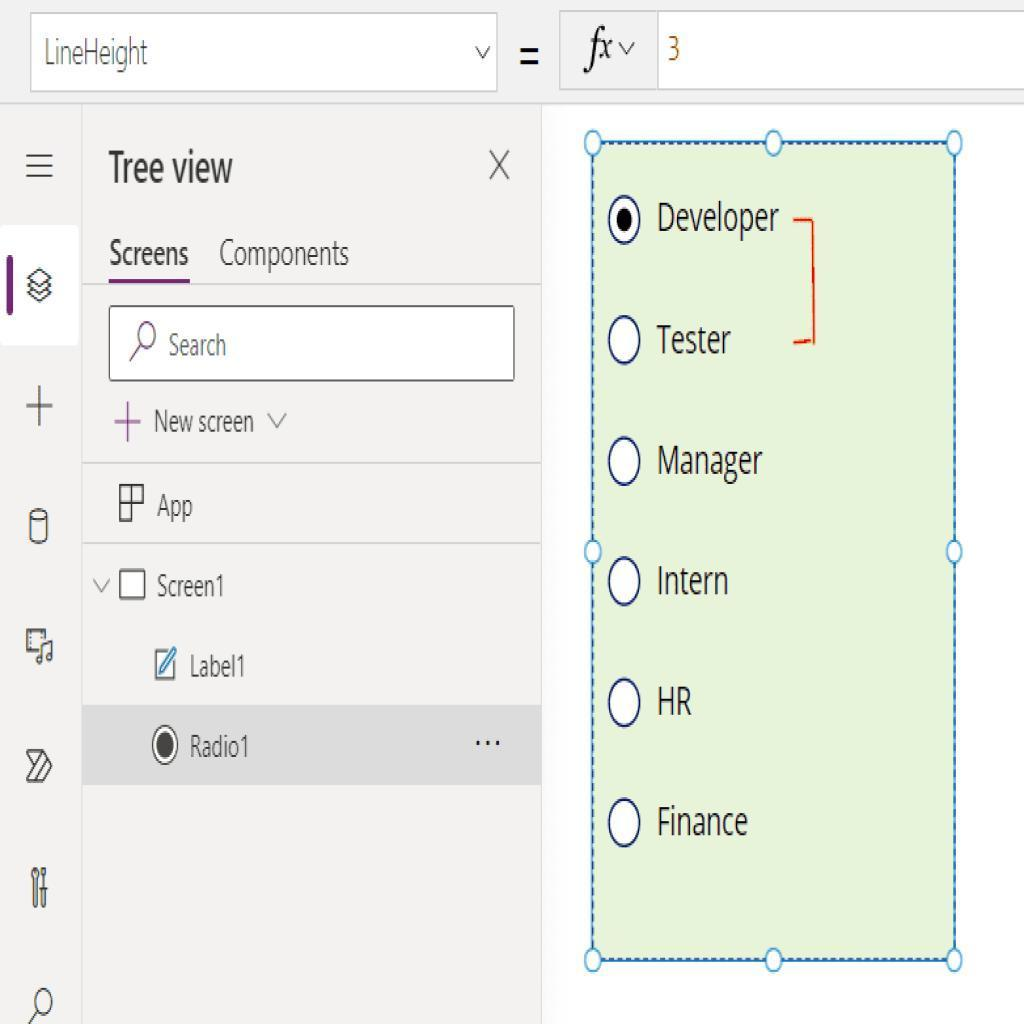checkbox: (121, 569, 147, 599)
dropdown: (30, 19, 500, 95)
icon: (15, 972, 74, 1024), (14, 741, 62, 792), (19, 261, 66, 311), (17, 144, 63, 188), (25, 863, 65, 913), (24, 382, 61, 436), (109, 394, 143, 452), (25, 502, 58, 561), (23, 623, 58, 674), (132, 321, 155, 372), (475, 730, 509, 763)
input: (106, 304, 516, 382)
label: (657, 434, 777, 486), (653, 795, 758, 849), (654, 201, 779, 239), (653, 556, 733, 611), (646, 324, 741, 367), (190, 724, 256, 768), (653, 673, 702, 723), (160, 572, 230, 607), (184, 655, 261, 685), (154, 493, 201, 532)
radio: (607, 310, 647, 371), (605, 671, 645, 732), (605, 549, 644, 610), (608, 798, 644, 859), (610, 433, 649, 489), (609, 194, 645, 250), (149, 724, 180, 767)
